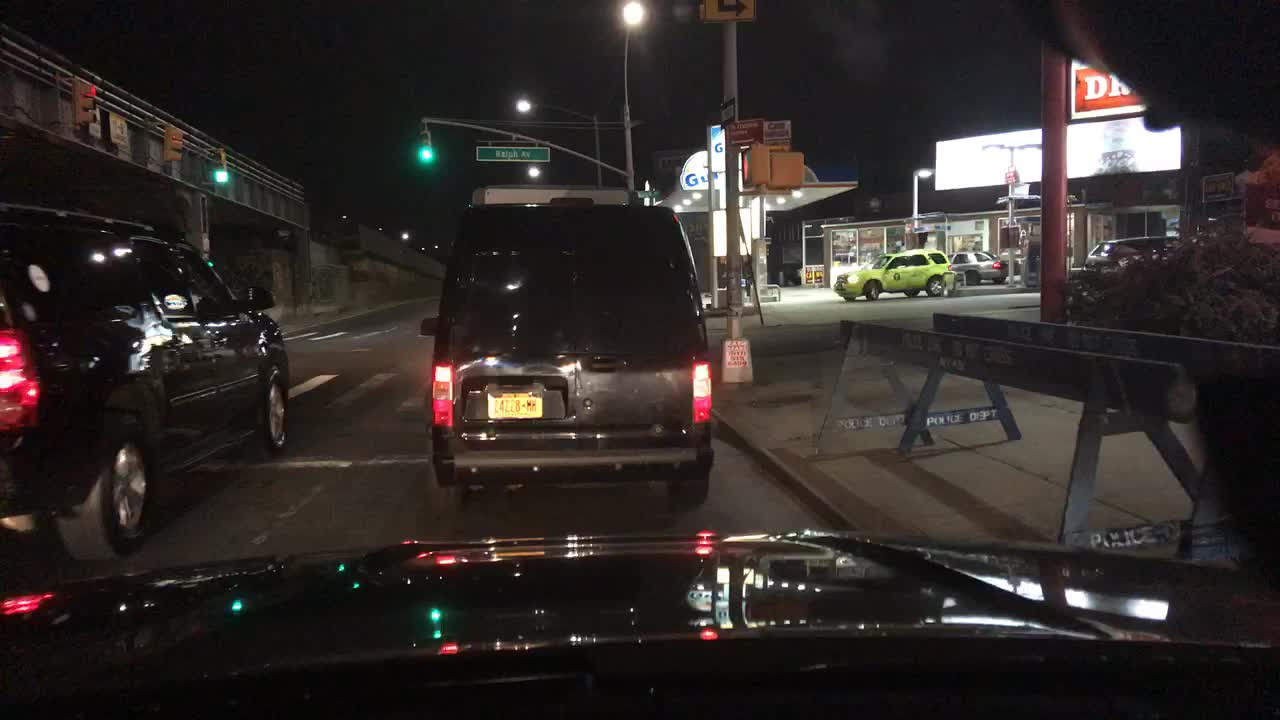car: (0, 200, 292, 568), (415, 190, 713, 516), (831, 246, 951, 301), (1086, 230, 1186, 276), (950, 250, 1006, 286)
traffic light: (770, 149, 805, 190), (739, 150, 771, 189), (73, 80, 97, 126), (163, 126, 183, 163), (417, 129, 432, 169), (211, 149, 225, 181)
traffic sign: (475, 144, 549, 163), (701, 0, 751, 21), (727, 120, 761, 147), (764, 121, 791, 147), (108, 112, 128, 146), (721, 101, 733, 126)
